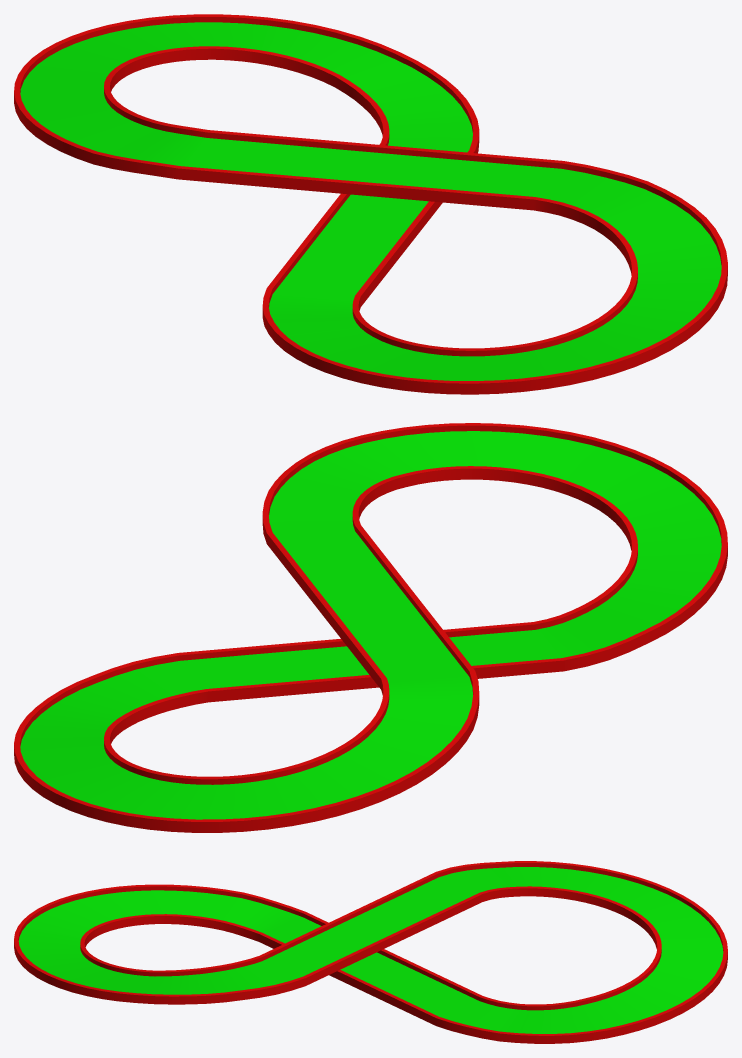
File: trackSeparate_MESH.fbx
3 views of the same model, one above another, from view 1: azimuth 30°, elevation 25°; view 2: azimuth 150°, elevation 25°; view 3: azimuth 270°, elevation 25° (orthographic). The views are drawn at different scales.
Parts seen in each view (by area): view 1: track2, edge; view 2: track2, edge; view 3: track2, edge.
Boxes of the visible parts, x1,y1,x2,y2 form: track2: (20,22,721,380); edge: (14,14,727,394); track2: (20,431,721,819); edge: (14,423,727,832); track2: (18,867,723,1033); edge: (14,861,727,1043).
Size of the model in its own units: 7614 by 1231 by 16131.
